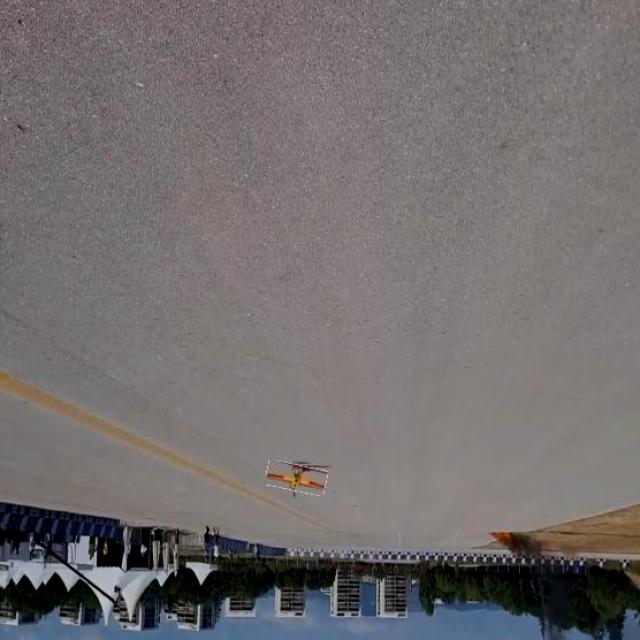plane: (266, 456, 333, 498)
